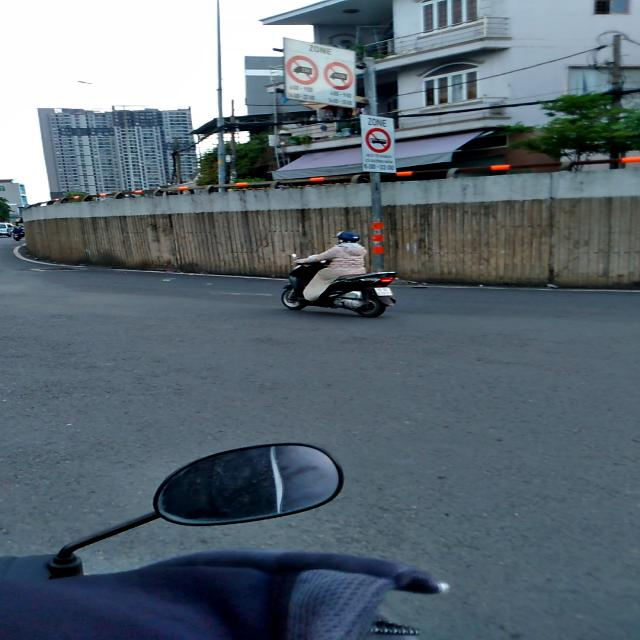P.106b: (285, 55, 319, 85), (323, 62, 354, 90)
P.107a: (365, 128, 392, 154)
